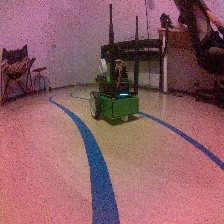rob: (89, 58, 139, 121)
